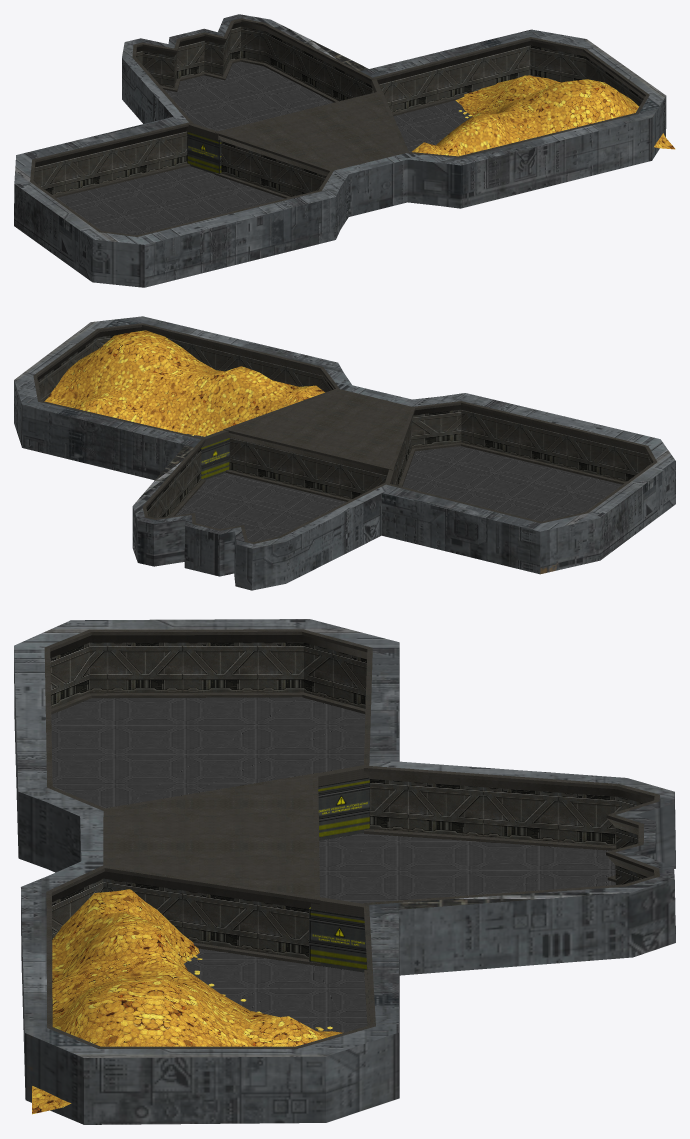
Rendered from SalaDoTesouro_IN.fbx.
3 views of the same model, one above another, from view 1: azimuth 30°, elevation 25°; view 2: azimuth 150°, elevation 25°; view 3: azimuth 270°, elevation 25° (orthographic). The views are drawn at different scales.
Visible parts, largest first — view 1: SalaDoTesouro_OUT_Combined:pCube31, pPlane2, SalaDoTesouro_OUT_Combined:pCube30; view 2: SalaDoTesouro_OUT_Combined:pCube31, pPlane2, SalaDoTesouro_OUT_Combined:pCube27; view 3: SalaDoTesouro_OUT_Combined:pCube31, pPlane2, SalaDoTesouro_OUT_Combined:pCube27, SalaDoTesouro_OUT_Combined:pCube30.
Part boxes in pixels (box(x1,y1,x2,y2)): SalaDoTesouro_OUT_Combined:pCube31: box(14, 14, 666, 287); pPlane2: box(412, 75, 675, 156); SalaDoTesouro_OUT_Combined:pCube30: box(187, 131, 221, 173); SalaDoTesouro_OUT_Combined:pCube31: box(14, 316, 675, 590); pPlane2: box(44, 330, 324, 436); SalaDoTesouro_OUT_Combined:pCube27: box(201, 437, 229, 479); SalaDoTesouro_OUT_Combined:pCube31: box(14, 619, 675, 1124); pPlane2: box(32, 889, 343, 1114); SalaDoTesouro_OUT_Combined:pCube27: box(309, 907, 367, 972); SalaDoTesouro_OUT_Combined:pCube30: box(318, 777, 369, 840).
Bounding box in the file's own units: 56.78 × 5.67 × 36.18.
